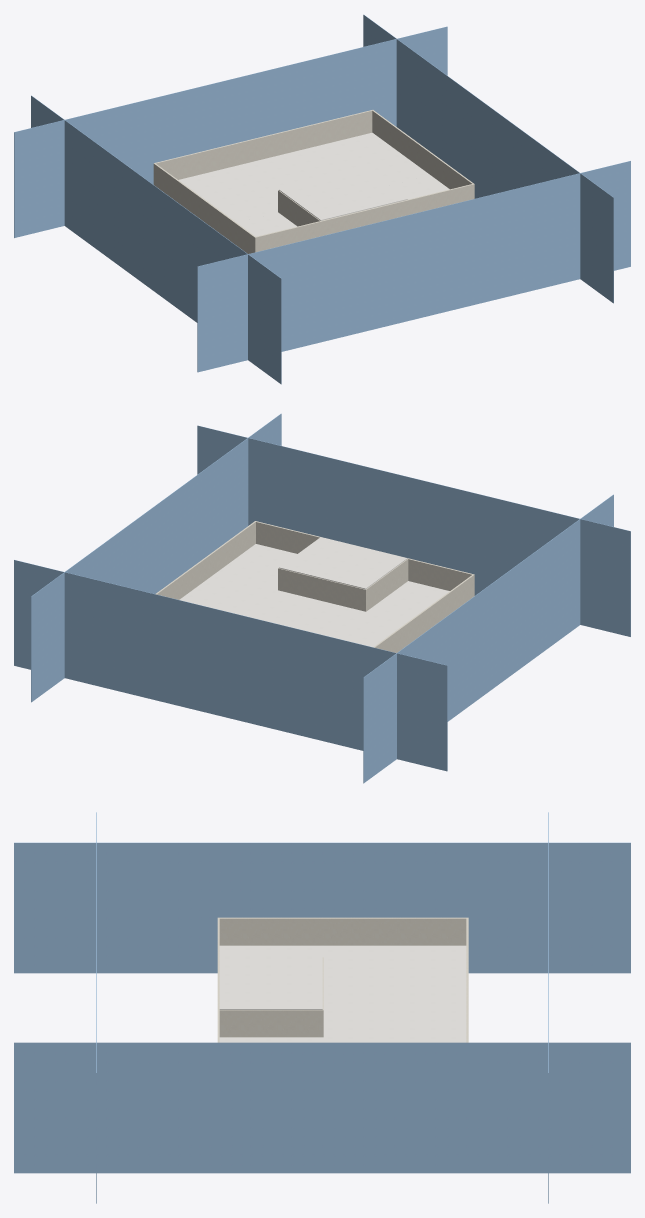
Rendered from interior.glb.
The picture shows the model from 3 angles, top to bottom: view 1: azimuth 30°, elevation 25°; view 2: azimuth 150°, elevation 25°; view 3: azimuth 270°, elevation 25°; orthographic projection. The views are drawn at different scales.
Visible parts, largest first — view 1: Sky_Front, Sky_Back, Sky_West, Sky_East, Ceiling_Office, Walls_Back_00, Ceiling_Hall, Walls_W_02, Ceiling_Briefing, Ceiling_Lockers, Walls_E_00, Walls_W_00 (+2 smaller); view 2: Sky_Back, Sky_Front, Sky_West, Sky_East, Ceiling_Office, Ceiling_Hall, Ceiling_Briefing, Ceiling_Lockers, Walls_W_02, Walls_HallBack_00, Walls_HallBack_00l, Walls_HallBack_01 (+2 smaller); view 3: Sky_East, Sky_West, Ceiling_Office, Ceiling_Hall, Walls_W_02, Walls_W_00, Walls_HallE_00, Ceiling_Lockers, Walls_W_01, Walls_HallE_01, Walls_W_01l, Ceiling_Briefing (+1 smaller).
Boxes of the visible parts, bbox=[...] form: Sky_Front: bbox=[197, 161, 630, 372]; Sky_Back: bbox=[14, 26, 447, 237]; Sky_West: bbox=[31, 95, 281, 384]; Sky_East: bbox=[363, 14, 613, 303]; Ceiling_Office: bbox=[178, 132, 430, 222]; Walls_Back_00: bbox=[153, 110, 373, 184]; Ceiling_Hall: bbox=[279, 168, 407, 220]; Walls_W_02: bbox=[208, 203, 256, 253]; Ceiling_Briefing: bbox=[389, 175, 449, 199]; Ceiling_Lockers: bbox=[237, 212, 297, 236]; Walls_E_00: bbox=[372, 110, 400, 151]; Walls_W_00: bbox=[154, 163, 182, 204]; Sky_Back: bbox=[14, 560, 447, 771]; Sky_Front: bbox=[197, 425, 630, 636]; Sky_West: bbox=[363, 494, 613, 783]; Sky_East: bbox=[31, 413, 281, 702]; Ceiling_Office: bbox=[179, 574, 407, 647]; Ceiling_Hall: bbox=[279, 537, 407, 589]; Ceiling_Briefing: bbox=[214, 544, 296, 589]; Ceiling_Lockers: bbox=[367, 581, 449, 621]; Walls_W_02: bbox=[427, 575, 473, 629]; Walls_HallBack_00: bbox=[336, 582, 366, 611]; Walls_HallBack_00l: bbox=[307, 575, 336, 604]; Walls_HallBack_01: bbox=[278, 568, 307, 597]; Sky_East: bbox=[14, 1042, 630, 1173]; Sky_West: bbox=[14, 842, 630, 973]; Ceiling_Office: bbox=[322, 945, 466, 1042]; Ceiling_Hall: bbox=[219, 956, 322, 1009]; Walls_W_02: bbox=[219, 917, 332, 945]; Walls_W_00: bbox=[399, 917, 466, 945]; Walls_HallE_00: bbox=[256, 1010, 321, 1037]; Ceiling_Lockers: bbox=[219, 945, 322, 956]; Walls_W_01: bbox=[353, 917, 378, 945]; Walls_HallE_01: bbox=[219, 1010, 244, 1037]; Walls_W_01l: bbox=[332, 917, 353, 945]; Ceiling_Briefing: bbox=[219, 1037, 322, 1042].
Bounding box in the file's own units: 60 × 14 × 60.
20 materials, 19 textured.
